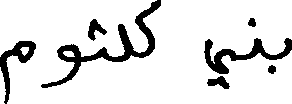ب: (266, 36, 290, 75)
ث: (85, 16, 104, 62)
ك: (134, 0, 159, 59)
ل: (117, 22, 130, 63)
م: (0, 38, 36, 102)
ن: (247, 16, 260, 60)
و: (41, 42, 79, 88)
ي: (203, 37, 233, 89)
